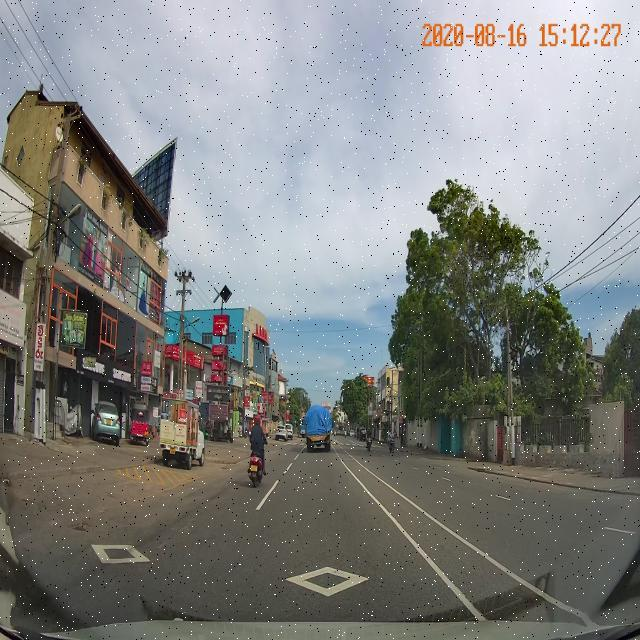diamond: (210, 544, 474, 603)
